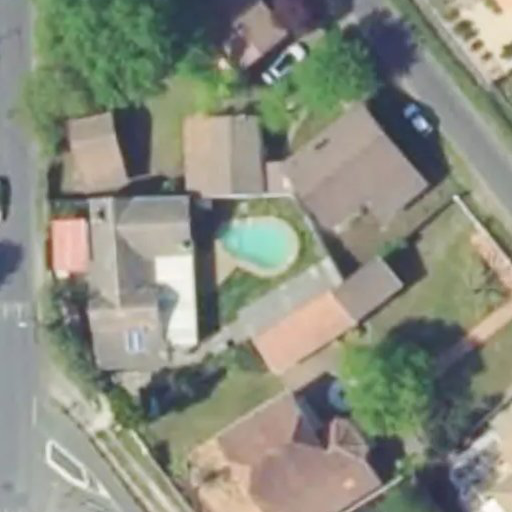pool: (219, 216, 299, 275)
